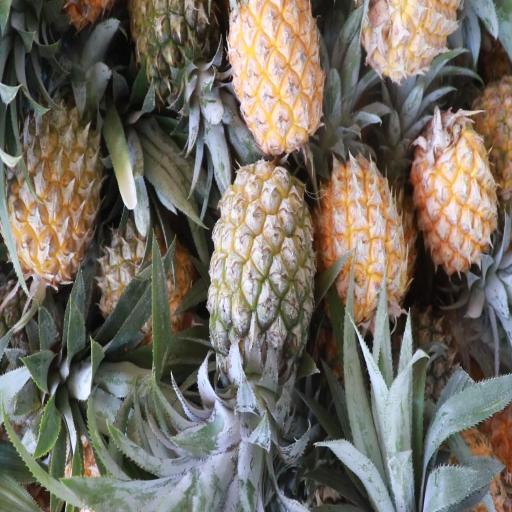------------------------------: (209, 164, 315, 383), (100, 216, 195, 342)
Pineapple - v8 v1: (4, 102, 100, 280), (321, 160, 409, 326), (412, 110, 497, 280), (232, 0, 328, 149)
